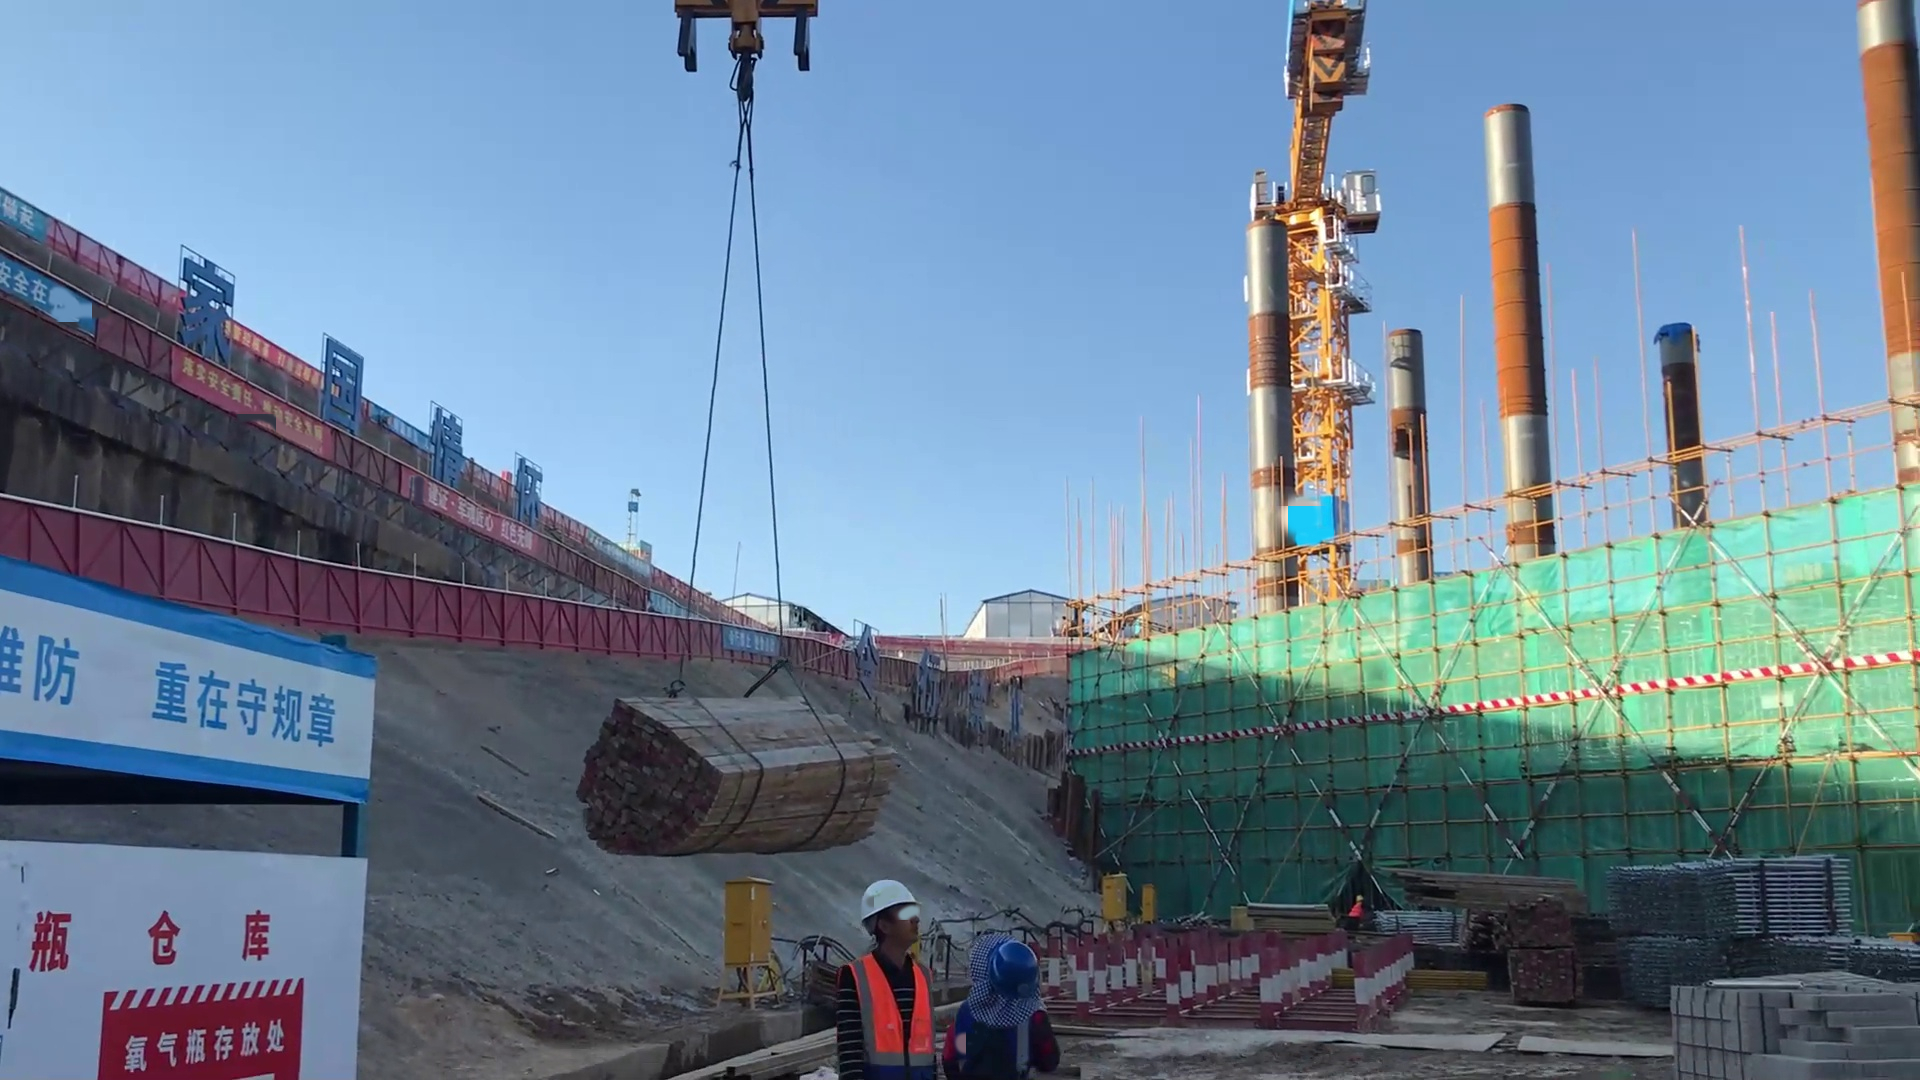brick: (1666, 974, 1912, 1080)
ebox: (719, 875, 785, 1011), (1103, 868, 1128, 938), (1137, 879, 1157, 937)
fence: (1, 484, 727, 684), (719, 622, 873, 681), (787, 631, 919, 676)
helmet: (969, 943, 1050, 1015), (854, 873, 922, 924), (1355, 894, 1363, 904)
hook: (640, 1, 848, 259)
person: (834, 878, 941, 1076), (945, 943, 1064, 1078), (1347, 886, 1368, 930)
scaffold: (1619, 940, 1908, 1011), (1604, 858, 1856, 939)
slogan: (1, 578, 377, 806), (16, 853, 341, 1080), (168, 352, 326, 464), (408, 485, 536, 569), (229, 317, 329, 396), (2, 259, 95, 328), (719, 624, 788, 659), (1, 196, 52, 237)
vest: (848, 951, 936, 1064), (960, 1001, 1038, 1079), (1350, 902, 1364, 918)
wood: (569, 693, 906, 862), (1381, 864, 1592, 912), (1473, 894, 1582, 947), (1226, 898, 1342, 936), (1509, 947, 1577, 1010)
